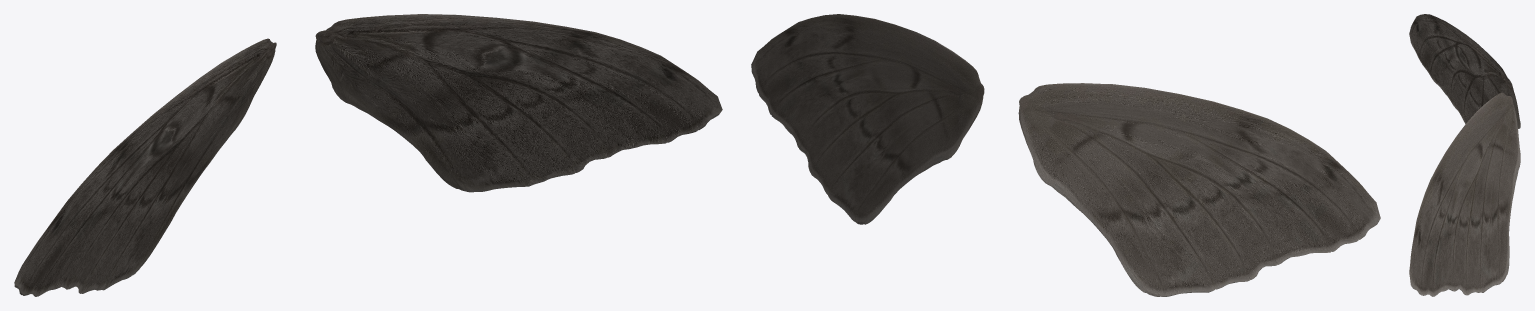
The model's file is ewm_mothwings.glb.
3 renders of one model, left to right at view 1: azimuth 30°, elevation 25°; view 2: azimuth 150°, elevation 25°; view 3: azimuth 270°, elevation 25°, orthographic. The views are drawn at different scales.
Visible parts, largest first — view 1: ewm_mothwings; view 2: ewm_mothwings; view 3: ewm_mothwings.
Boxes of the visible parts, box(x1,y1,x2,y2) form: ewm_mothwings: box(14, 14, 722, 296); ewm_mothwings: box(751, 14, 1380, 296); ewm_mothwings: box(1409, 14, 1520, 296).
Bounding box in the file's own units: 1.31 × 0.3698 × 0.255.
Materials: 1 (1 with a texture image).
